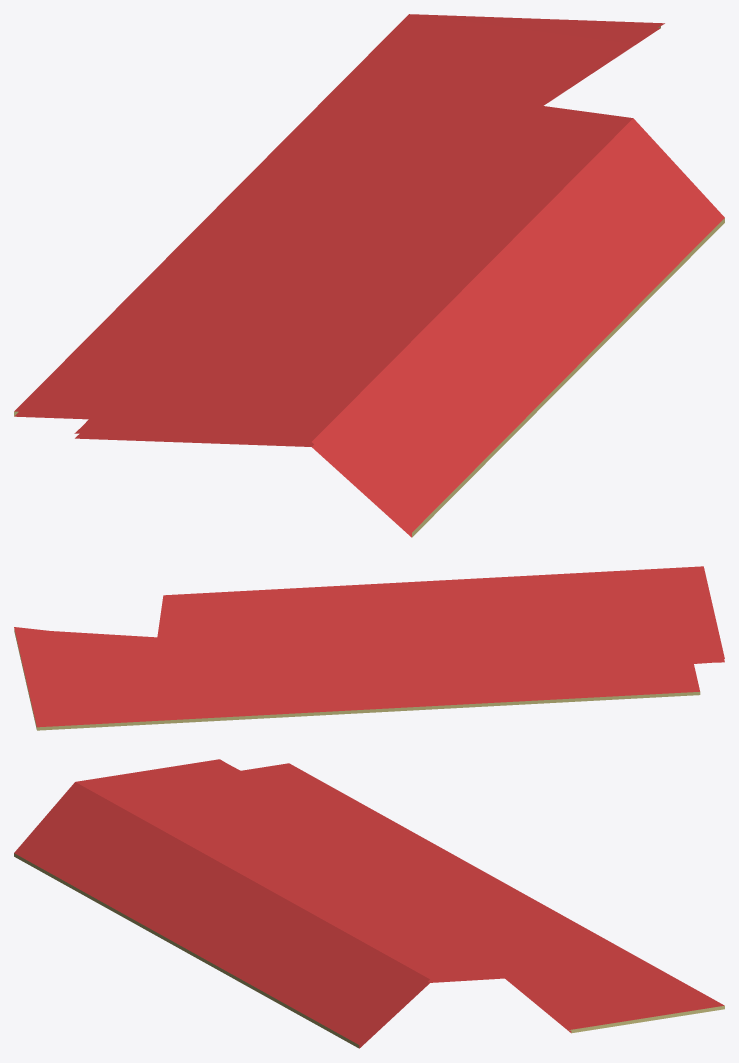
The picture shows the model from 3 angles, top to bottom: view 1: azimuth 30°, elevation 25°; view 2: azimuth 150°, elevation 25°; view 3: azimuth 270°, elevation 25°; orthographic projection. The views are drawn at different scales.
Size of the model in its own units: 17.53 by 17.99 by 1.54.
